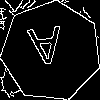A: (26, 26, 66, 76)
